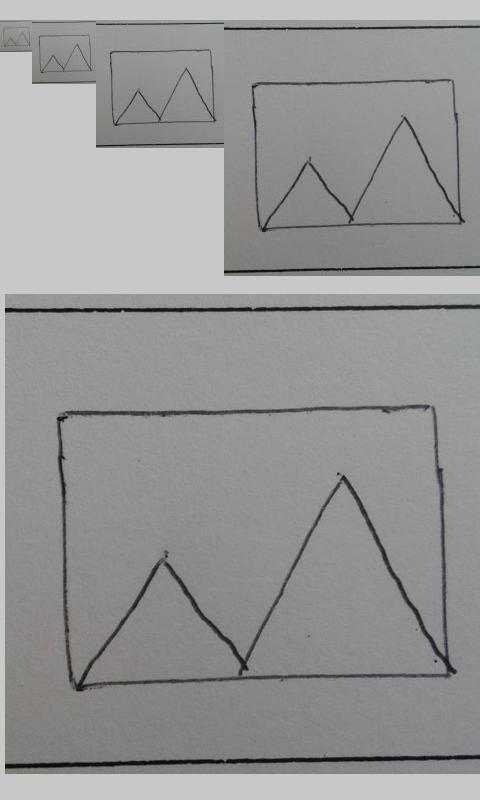image_view: (52, 401, 451, 690), (250, 75, 465, 233), (110, 49, 215, 125), (38, 34, 93, 73), (2, 26, 31, 48)
